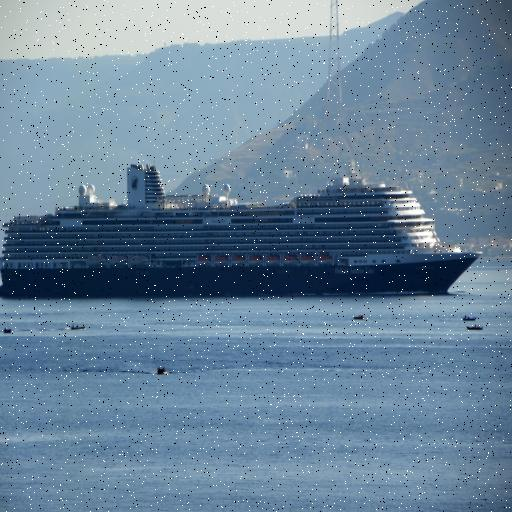cruises: (1, 160, 485, 302)
